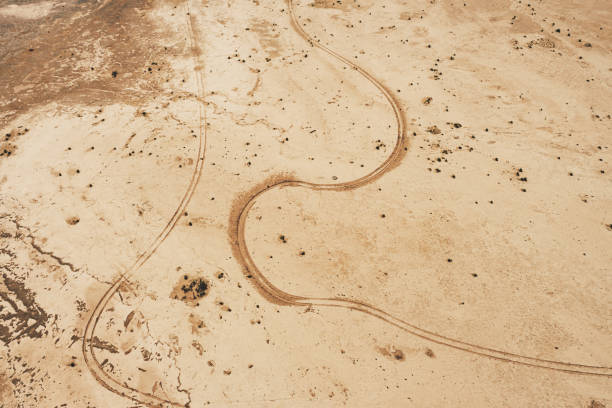vehicle_track: (230, 0, 611, 376), (82, 102, 205, 406)
